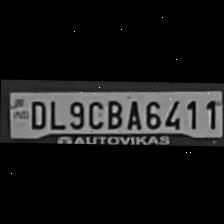1: (199, 97, 219, 128), (181, 97, 199, 128)
4: (161, 96, 181, 128)
6: (140, 97, 160, 128)
9: (65, 97, 85, 128)
A: (122, 97, 140, 128)
B: (104, 96, 122, 128)
C: (84, 96, 104, 127)
D: (24, 96, 46, 128)
L: (46, 96, 64, 128)
